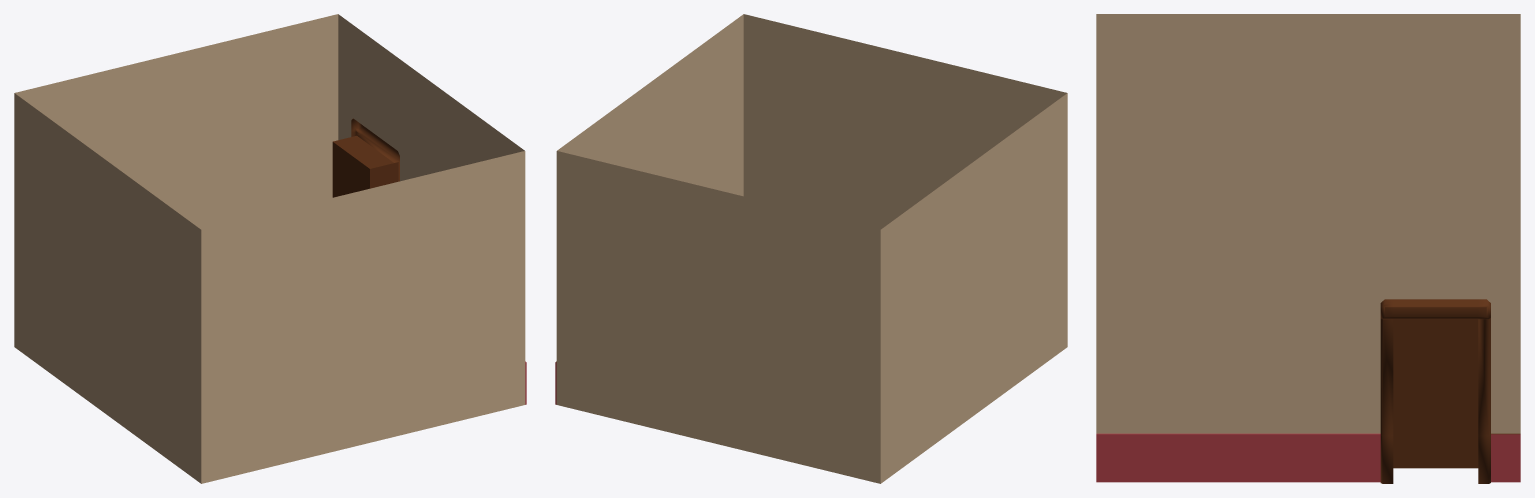
The model's file is Stucco bottom 4x4.fbx.
3 views of the same model, side by side, from view 1: azimuth 30°, elevation 25°; view 2: azimuth 150°, elevation 25°; view 3: azimuth 270°, elevation 25° (orthographic). The views are drawn at different scales.
Parts seen in each view (by area): view 1: Stucco bottom 4; view 2: Stucco bottom 4; view 3: Stucco bottom 4.
Boxes of the visible parts, <box> form: Stucco bottom 4: <box>14,14,526,483</box>; Stucco bottom 4: <box>555,14,1067,483</box>; Stucco bottom 4: <box>1096,14,1520,483</box>.
Bounding box in the file's own units: 411 × 300 × 400.
